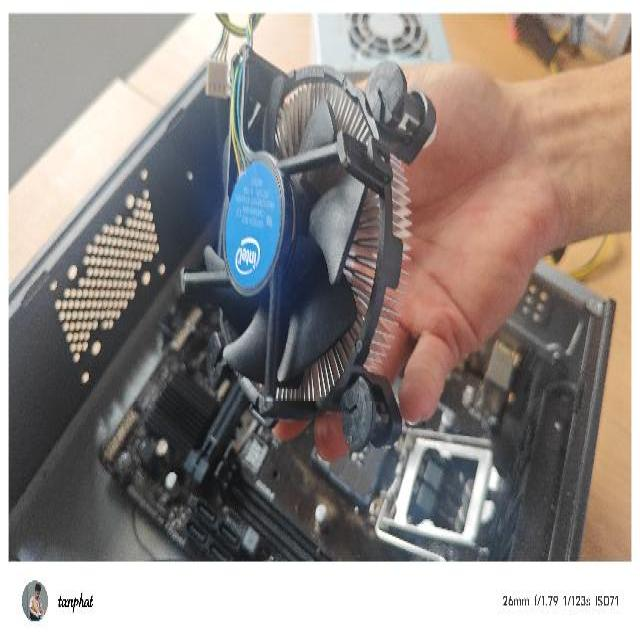CPU_Fan: (180, 34, 437, 459)
